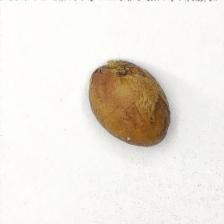NG: (99, 60, 146, 87)
